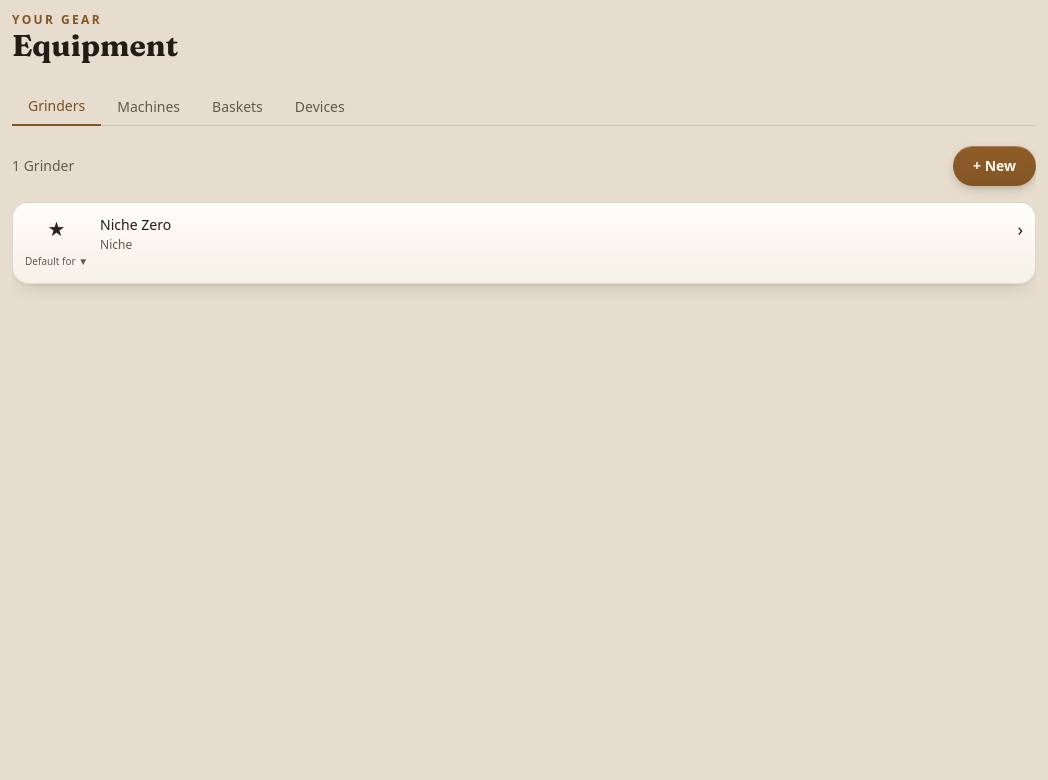
Test: shows new form after clicking + New
The width and height of the screenshot is (1048, 780).
Click the button "+ New" at (994, 166), box [953,146,1036,186]
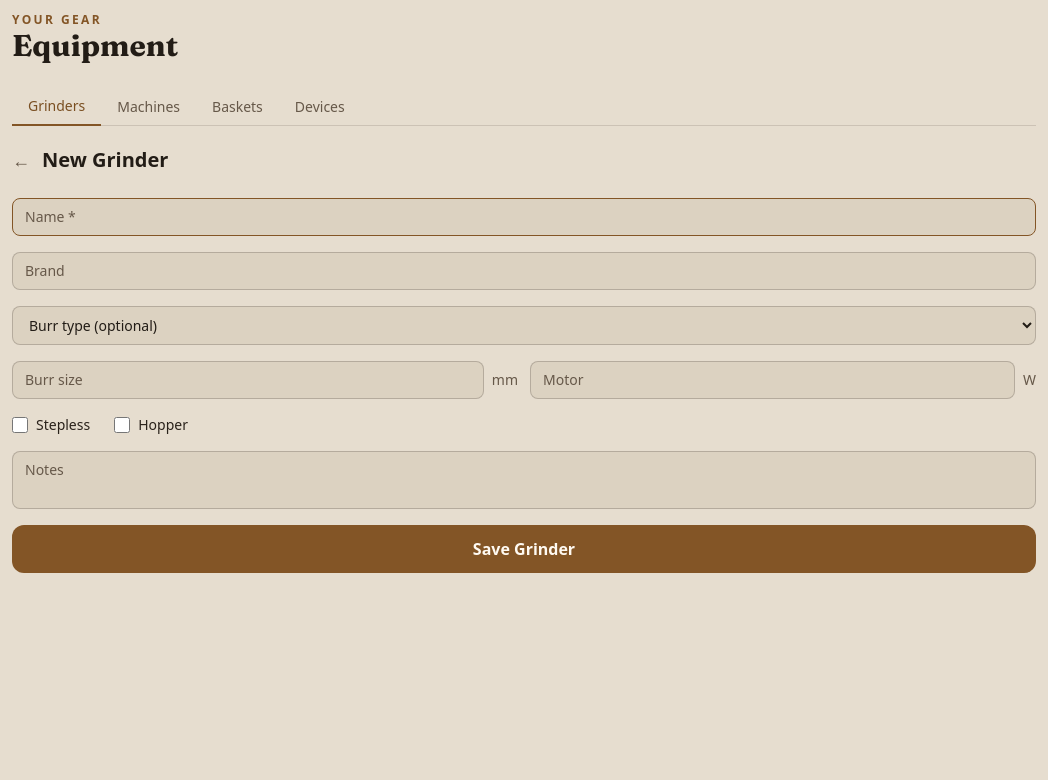
Now the field with placeholder "Name *" is shown, box [12,198,1036,236]
